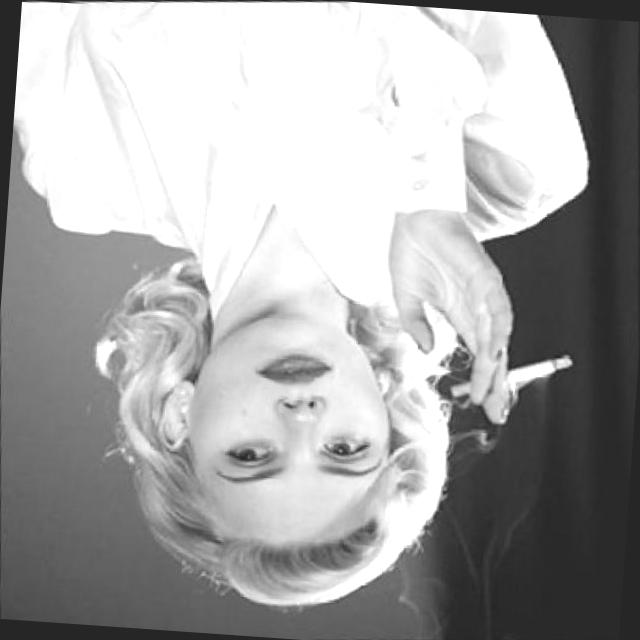cigarette: (444, 340, 582, 406)
